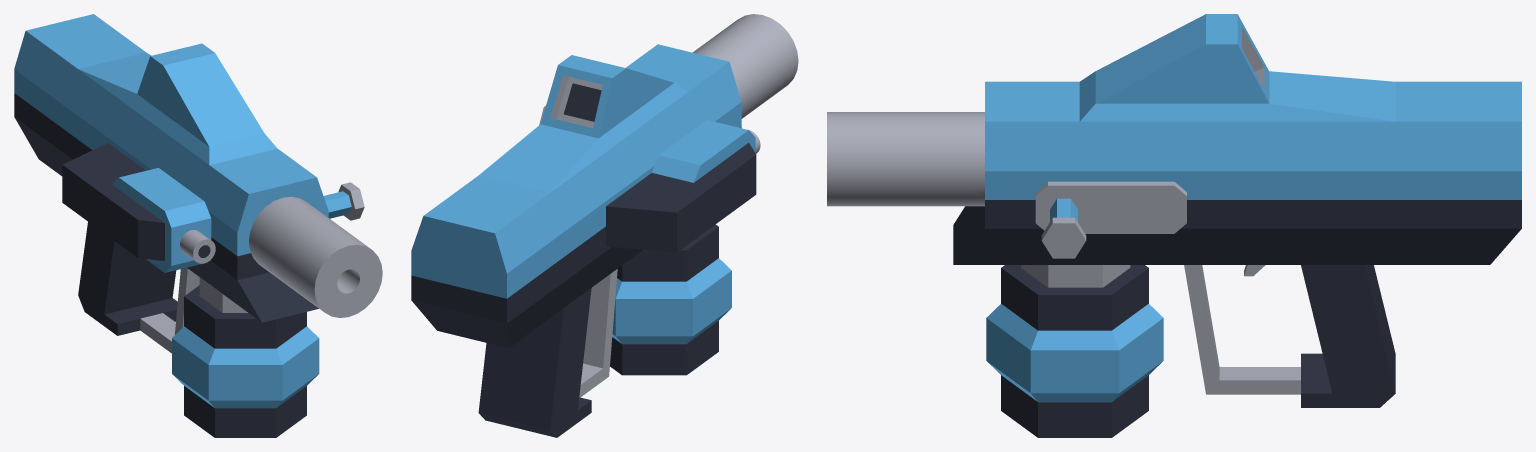
The model's file is Zapper.fbx.
3 renders of one model, left to right at view 1: azimuth 30°, elevation 25°; view 2: azimuth 150°, elevation 25°; view 3: azimuth 270°, elevation 25°, orthographic. The views are drawn at different scales.
Parts seen in each view (by area): view 1: mediumBlaster_handleGuardSmall, hexagon_overhangDetail%, mediumBlaster_barrelShort, detailCounter, attachment_laser, mediumBlaster_barrelSilencer, mediumBlaster_back, hilt_handle, hexagon_castleBattlement; view 2: mediumBlaster_handleGuardSmall, mediumBlaster_back, hexagon_overhangDetail%, detailCounter, attachment_laser, mediumBlaster_barrelShort, mediumBlaster_barrelSilencer; view 3: mediumBlaster_handleGuardSmall, hexagon_overhangDetail%, mediumBlaster_barrelShort, detailCounter, mediumBlaster_barrelSilencer, mediumBlaster_back, guard, hexagon_castleBattlement, hilt_handle.
Part boxes in pixels (left/top/right/bottom): mediumBlaster_handleGuardSmall: left=40, top=33, right=199, bottom=353; hexagon_overhangDetail%: left=172, top=285, right=319, bottom=437; mediumBlaster_barrelShort: left=173, top=146, right=328, bottom=322; detailCounter: left=78, top=43, right=277, bottom=165; attachment_laser: left=62, top=143, right=215, bottom=272; mediumBlaster_barrelSilencer: left=187, top=178, right=382, bottom=317; mediumBlaster_back: left=14, top=14, right=119, bottom=168; hilt_handle: left=323, top=182, right=364, bottom=220; hexagon_castleBattlement: left=199, top=277, right=247, bottom=312; mediumBlaster_handleGuardSmall: left=451, top=112, right=670, bottom=437; mediumBlaster_back: left=411, top=195, right=534, bottom=348; hexagon_overhangDetail%: left=610, top=224, right=731, bottom=375; detailCounter: left=479, top=55, right=687, bottom=192; attachment_laser: left=606, top=120, right=760, bottom=252; mediumBlaster_barrelShort: left=626, top=44, right=741, bottom=145; mediumBlaster_barrelSilencer: left=693, top=14, right=798, bottom=118; mediumBlaster_handleGuardSmall: left=1143, top=81, right=1458, bottom=407; hexagon_overhangDetail%: left=986, top=265, right=1163, bottom=437; mediumBlaster_barrelShort: left=953, top=81, right=1142, bottom=264; detailCounter: left=1079, top=14, right=1395, bottom=121; mediumBlaster_barrelSilencer: left=827, top=112, right=1140, bottom=264; mediumBlaster_back: left=1458, top=81, right=1521, bottom=264; guard: left=1035, top=181, right=1186, bottom=233; hexagon_castleBattlement: left=1021, top=265, right=1130, bottom=287; hilt_handle: left=1041, top=198, right=1086, bottom=258.
Size of the model in its own units: 9.13 by 13.3 by 22.
